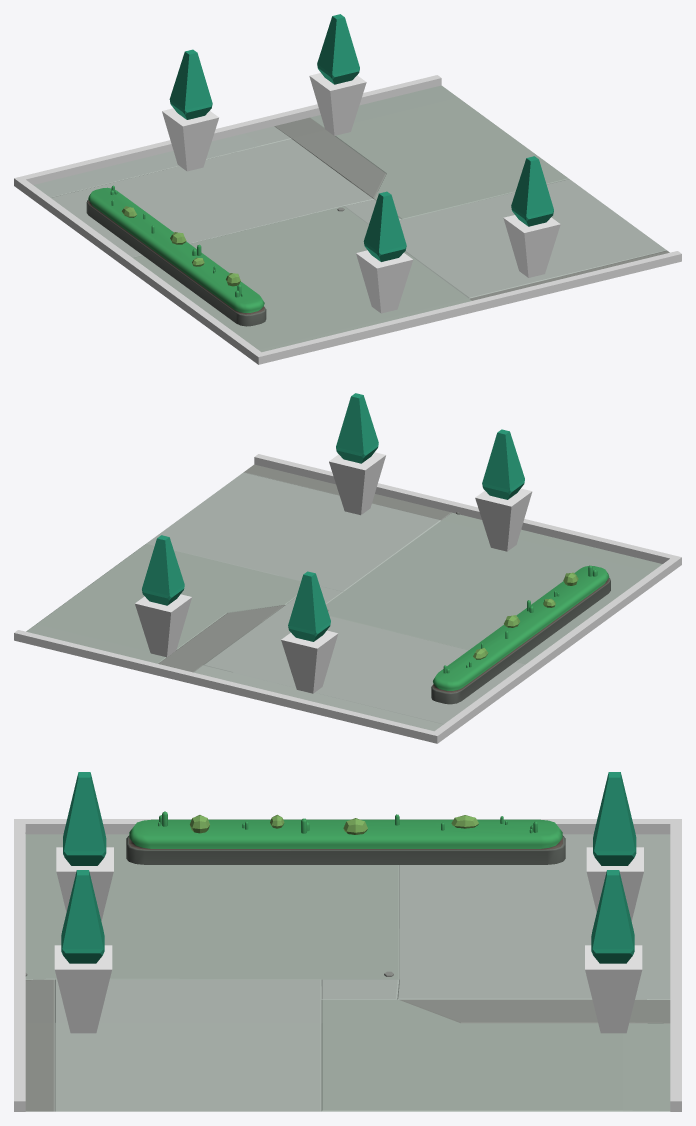
3 renders of one model, top to bottom at view 1: azimuth 30°, elevation 25°; view 2: azimuth 150°, elevation 25°; view 3: azimuth 270°, elevation 25°, orthographic. The views are drawn at different scales.
Parts seen in each view (by area): view 1: Scifi_Panel_04_Plaza014_group4.037_Scifi_Panel_04_Plaza014_g, Cube.1135_Cube.1264, TreePatch_Plaza014_group3.001_TreePatch_Plaza014_group3.039, base_singlePot01.002_base_singlePot01.036, base_singlePot01.000_base_singlePot01.034, base_singlePot01.001_base_singlePot01.035, base_singlePot01.003_base_singlePot01.037; view 2: Scifi_Panel_04_Plaza014_group4.037_Scifi_Panel_04_Plaza014_g, Cube.1135_Cube.1264, TreePatch_Plaza014_group3.001_TreePatch_Plaza014_group3.039, base_singlePot01.002_base_singlePot01.036, base_singlePot01.001_base_singlePot01.035, base_singlePot01.003_base_singlePot01.037, base_singlePot01.000_base_singlePot01.034; view 3: Scifi_Panel_04_Plaza014_group4.037_Scifi_Panel_04_Plaza014_g, TreePatch_Plaza014_group3.001_TreePatch_Plaza014_group3.039, Cube.1135_Cube.1264, base_singlePot01.003_base_singlePot01.037, base_singlePot01.000_base_singlePot01.034, base_singlePot01.002_base_singlePot01.036, base_singlePot01.001_base_singlePot01.035.
Boxes of the visible parts, x1=… form: Scifi_Panel_04_Plaza014_group4.037_Scifi_Panel_04_Plaza014_g: x1=33, y1=85, x2=669, y2=352; Cube.1135_Cube.1264: x1=14, y1=75, x2=681, y2=364; TreePatch_Plaza014_group3.001_TreePatch_Plaza014_group3.039: x1=86, y1=187, x2=266, y2=326; base_singlePot01.002_base_singlePot01.036: x1=356, y1=191, x2=412, y2=313; base_singlePot01.000_base_singlePot01.034: x1=309, y1=14, x2=366, y2=135; base_singlePot01.001_base_singlePot01.035: x1=162, y1=49, x2=218, y2=171; base_singlePot01.003_base_singlePot01.037: x1=503, y1=156, x2=560, y2=277; Scifi_Panel_04_Plaza014_group4.037_Scifi_Panel_04_Plaza014_g: x1=26, y1=464, x2=662, y2=731; Cube.1135_Cube.1264: x1=14, y1=454, x2=681, y2=743; TreePatch_Plaza014_group3.001_TreePatch_Plaza014_group3.039: x1=431, y1=566, x2=610, y2=704; base_singlePot01.002_base_singlePot01.036: x1=475, y1=429, x2=532, y2=551; base_singlePot01.001_base_singlePot01.035: x1=281, y1=571, x2=338, y2=693; base_singlePot01.003_base_singlePot01.037: x1=329, y1=393, x2=385, y2=515; base_singlePot01.000_base_singlePot01.034: x1=135, y1=535, x2=191, y2=657; Scifi_Panel_04_Plaza014_group4.037_Scifi_Panel_04_Plaza014_g: x1=25, y1=832, x2=670, y2=1111; TreePatch_Plaza014_group3.001_TreePatch_Plaza014_group3.039: x1=126, y1=819, x2=565, y2=864; Cube.1135_Cube.1264: x1=14, y1=819, x2=681, y2=1111; base_singlePot01.003_base_singlePot01.037: x1=54, y1=870, x2=112, y2=1033; base_singlePot01.000_base_singlePot01.034: x1=585, y1=870, x2=642, y2=1033; base_singlePot01.002_base_singlePot01.036: x1=56, y1=772, x2=113, y2=921; base_singlePot01.001_base_singlePot01.035: x1=586, y1=772, x2=643, y2=920.
Bounding box in the file's own units: 10 × 2.6 × 10.
